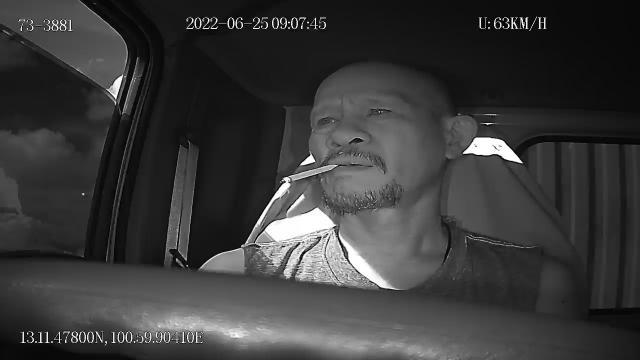SafeDriving: (360, 97, 402, 125), (309, 105, 346, 134)
Smoking: (282, 162, 338, 182)
